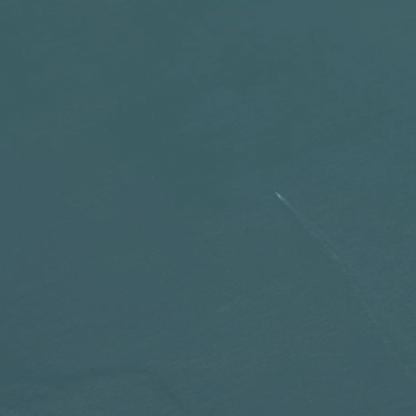ship: (266, 187, 286, 201)
